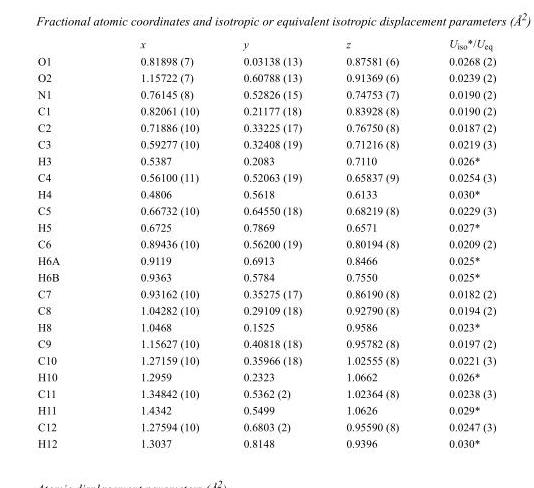table: (37, 36, 495, 449)
table column: (99, 36, 220, 449), (220, 36, 323, 449), (323, 36, 423, 449), (423, 36, 495, 449), (37, 36, 99, 449)
table column header: (37, 36, 495, 52)
table row: (37, 68, 495, 85), (37, 85, 495, 102), (37, 118, 495, 135), (37, 135, 495, 152), (37, 168, 495, 185), (37, 201, 495, 218), (37, 218, 495, 235), (37, 251, 495, 268), (37, 268, 495, 285), (37, 301, 495, 318), (37, 334, 495, 351), (37, 351, 495, 368), (37, 384, 495, 401), (37, 401, 495, 418), (37, 36, 495, 52), (37, 52, 495, 68), (37, 102, 495, 118), (37, 152, 495, 168), (37, 185, 495, 201), (37, 235, 495, 251), (37, 285, 495, 301), (37, 318, 495, 334), (37, 368, 495, 384), (37, 418, 495, 434), (37, 434, 495, 449)
